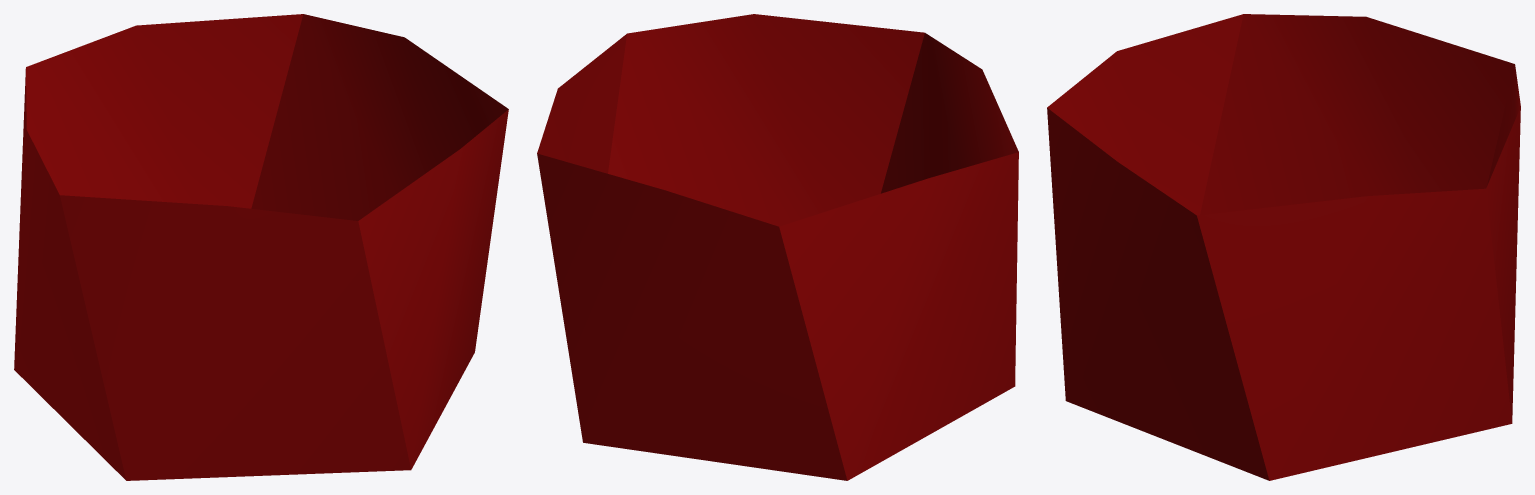
The model's file is original-11.obj.
The picture shows the model from 3 angles, left to right: view 1: azimuth 30°, elevation 25°; view 2: azimuth 150°, elevation 25°; view 3: azimuth 270°, elevation 25°; orthographic projection. The views are drawn at different scales.
Parts seen in each view (by area): view 1: mesh11/mesh11-geometry#mesh11-geometry; view 2: mesh11/mesh11-geometry#mesh11-geometry; view 3: mesh11/mesh11-geometry#mesh11-geometry.
Part boxes in pixels (<box>): mesh11/mesh11-geometry#mesh11-geometry: <box>14,14,508,480</box>; mesh11/mesh11-geometry#mesh11-geometry: <box>537,14,1018,480</box>; mesh11/mesh11-geometry#mesh11-geometry: <box>1047,14,1520,480</box>.
Size of the model in its own units: 0.0851 by 0.0538 by 0.0839.
